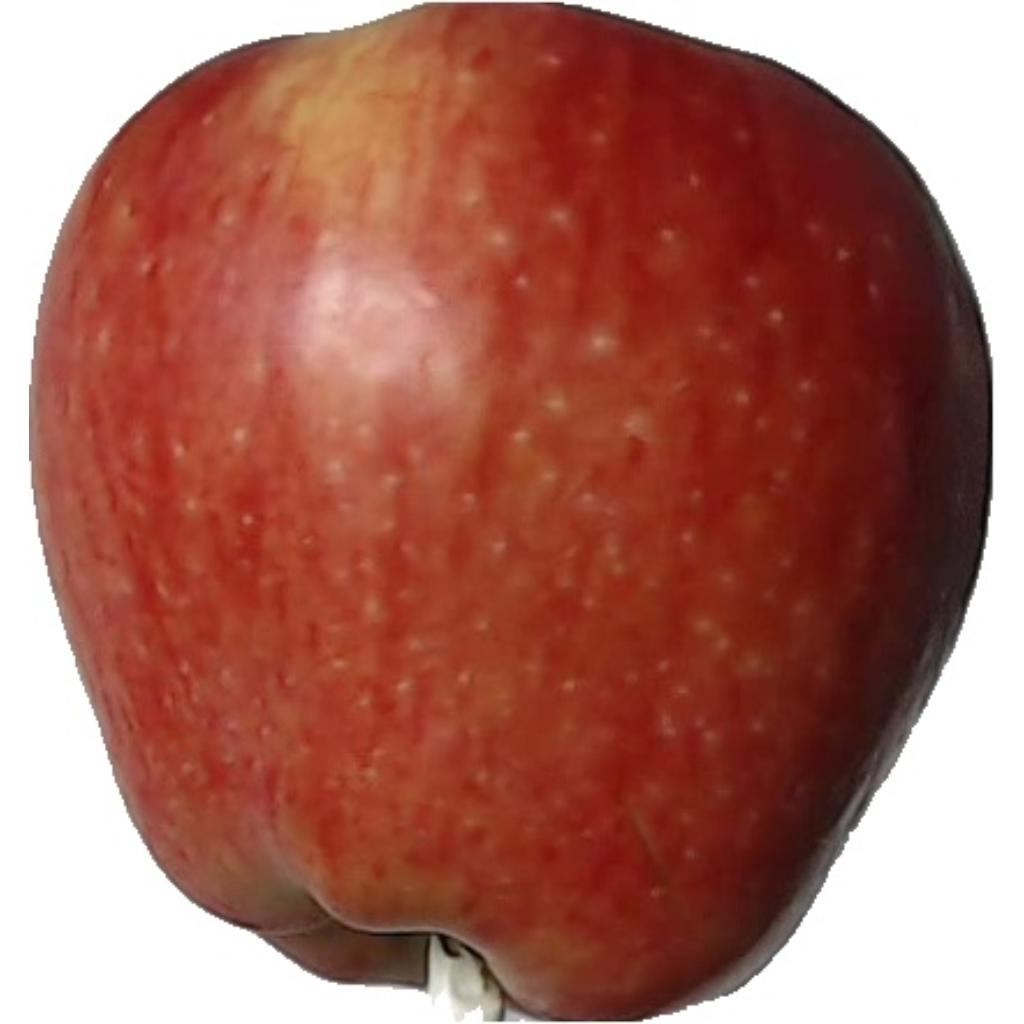apple: (34, 5, 990, 1024)
